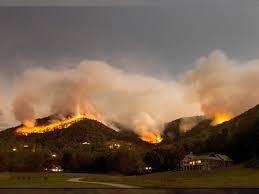fire: (14, 108, 100, 132), (139, 125, 165, 144), (211, 109, 231, 124)
